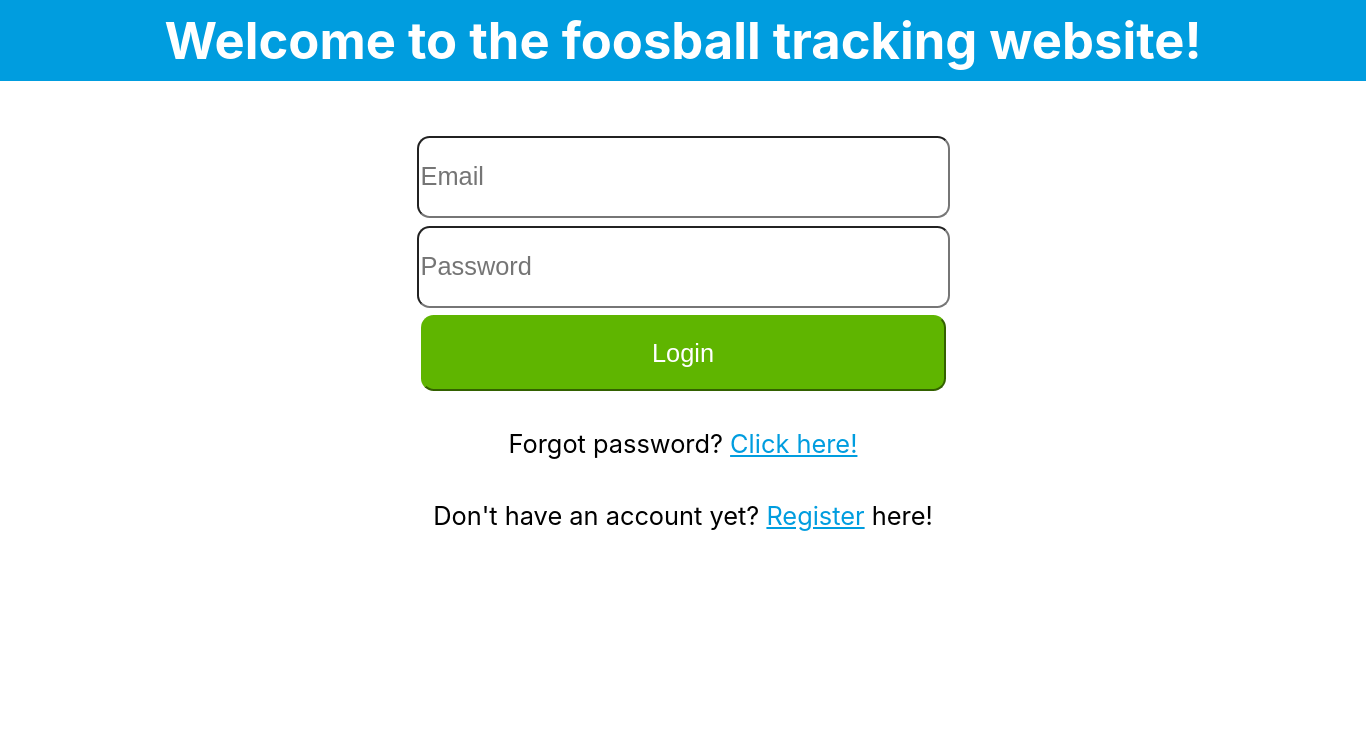
Test case: forwards to user dashboard when user is not admin
The width and height of the screenshot is (1366, 746).
Step 1. Type "test1@gmail.com" into the field with placeholder "Email" → x=683, y=177, box x1=416 y1=136 x2=950 y2=218
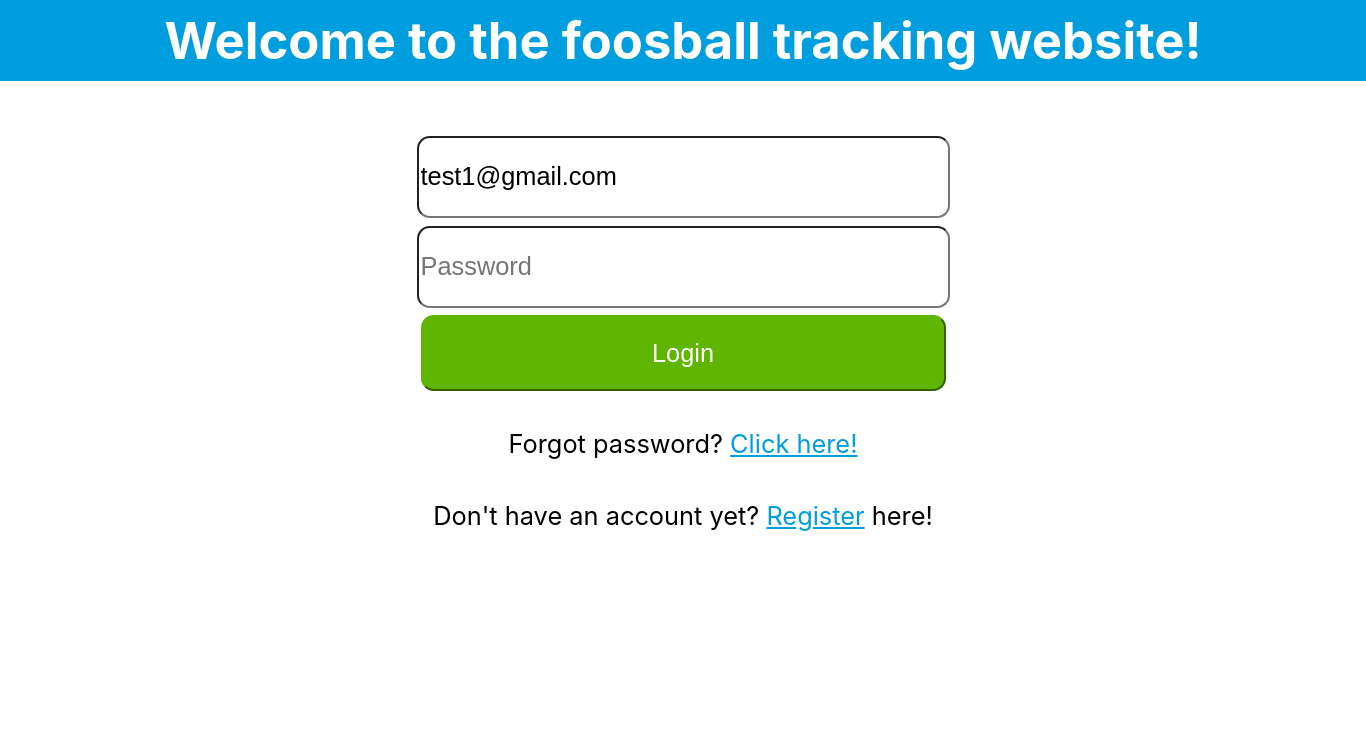
Step 2. Type "123456789" into the password field with placeholder "Password" → x=683, y=267, box x1=416 y1=226 x2=950 y2=308
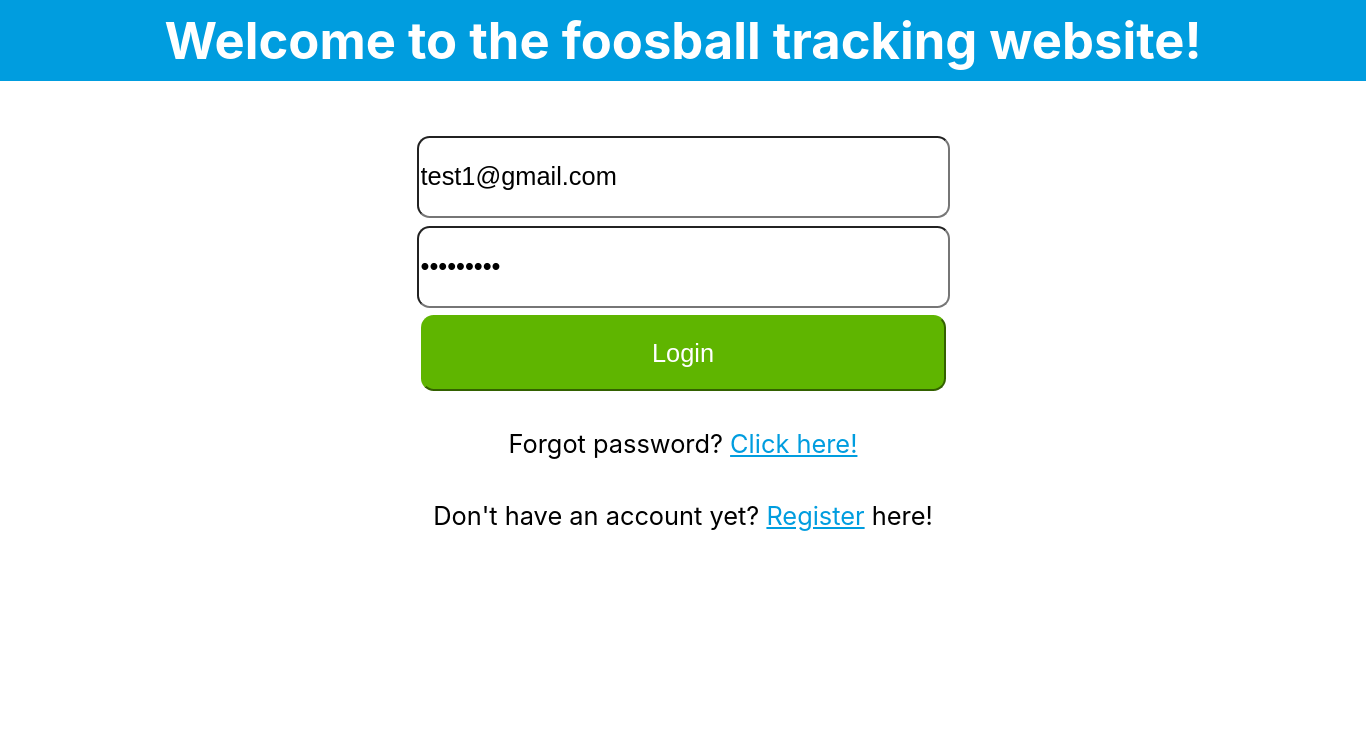
Step 3. Click the button "Login" → x=683, y=353, box x1=420 y1=315 x2=946 y2=391
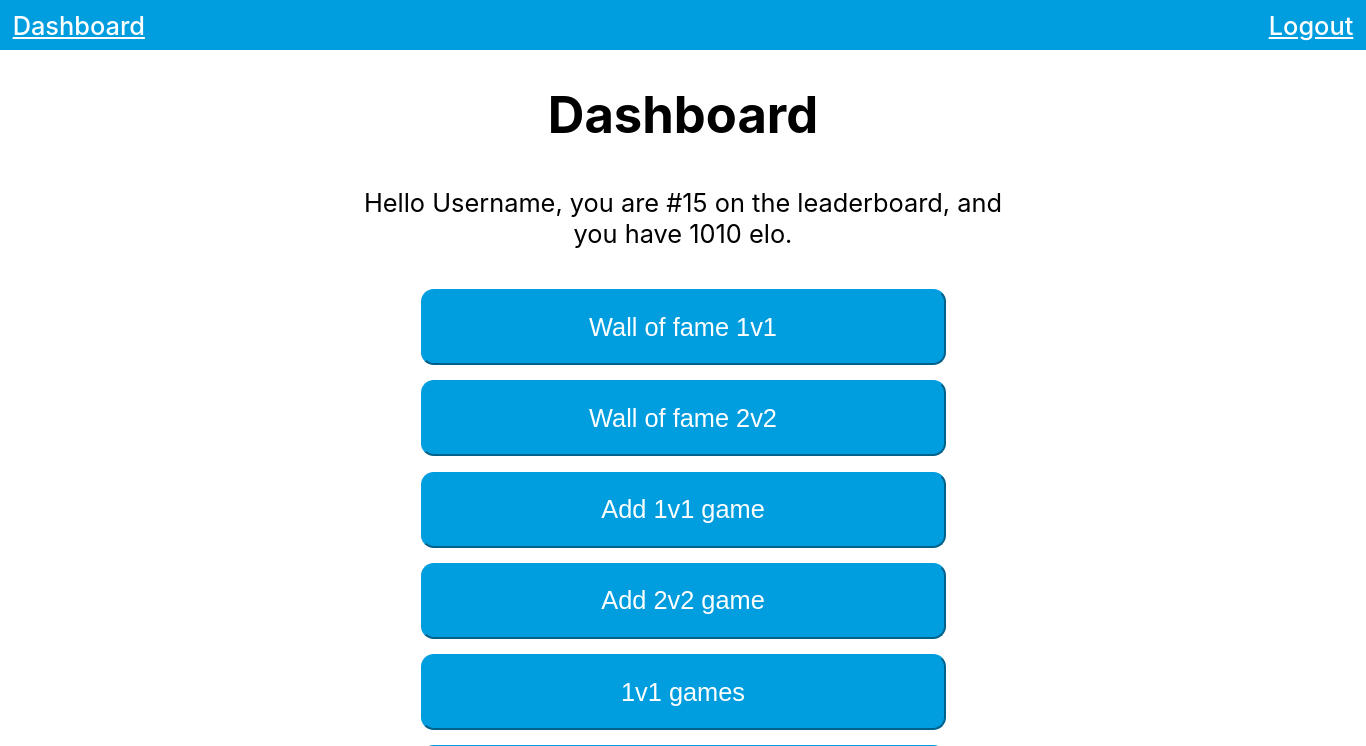
expect the heading "Dashboard" is shown: met, box x1=333 y1=84 x2=1033 y2=145
expect the text "on the leaderboard, and you have" is shown: met, box x1=574 y1=186 x2=1002 y2=248
